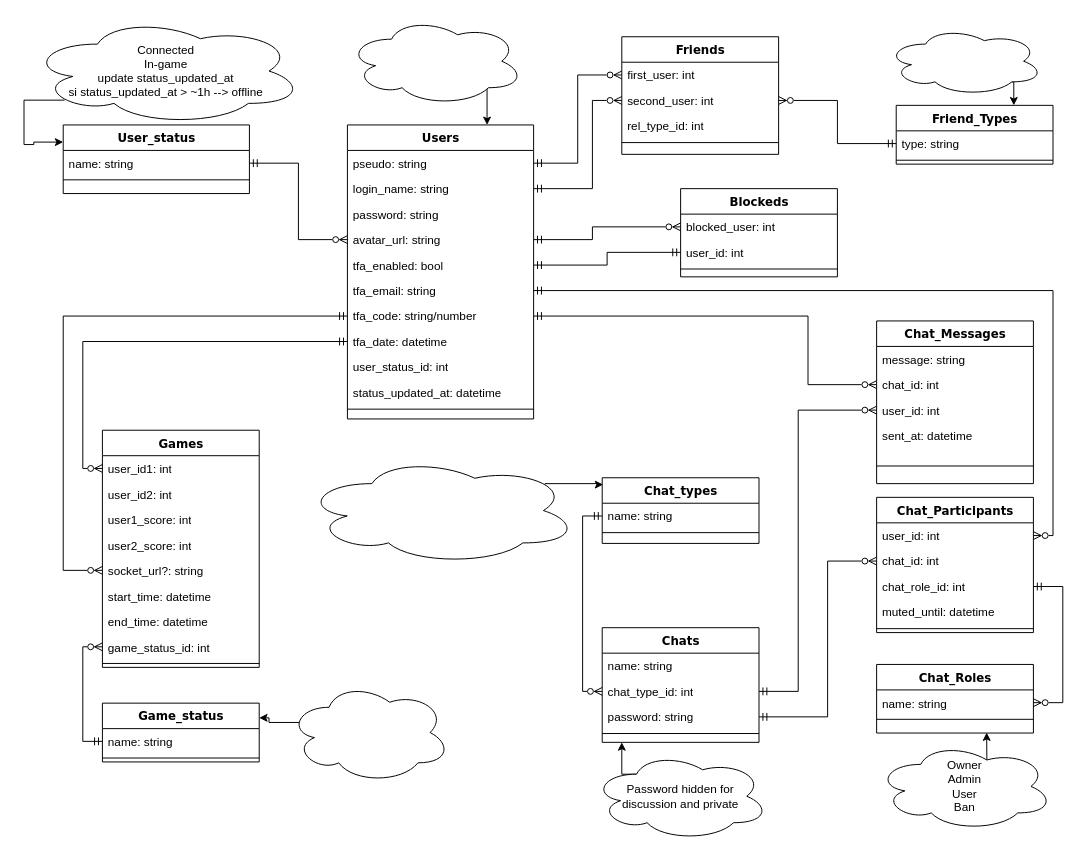
The diagram is 1089 pixels wide and 858 high, and some of its shapes have lost their labels. Each missing label, with the centre of its shape:
(Password for manual login, not for final): pixel 435 60
Asked Friend: pixel 964 61
Discussion Public Private (Protected is public with password): pixel 440 510
Matchmaking ? Playing Finished: pixel 369 732
